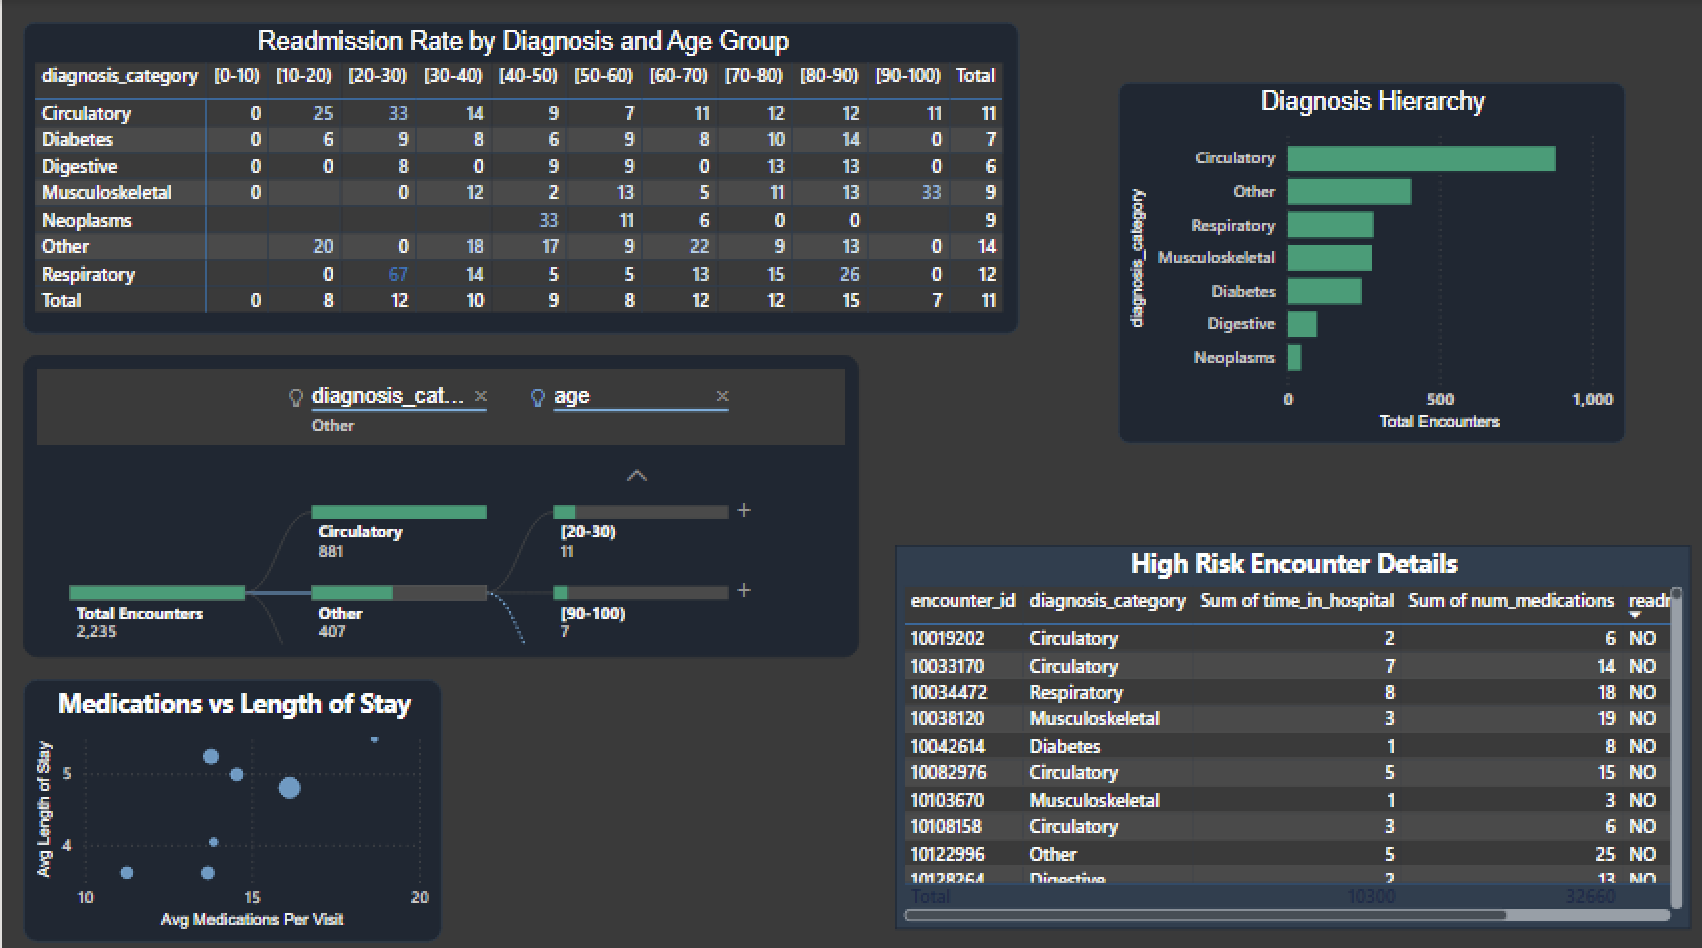

What the dashboard file says about the page in this screenshot:
{"tool":"powerbi","page":{"name":"Clinical Deep Dive","canvas":[1280,720],"ordinal":1},"visuals":[{"type":"pivotTable","title":"Readmission Rate by Diagnosis and Age Group","fields":{"Rows":["diabetic_data.diagnosis_category"],"Columns":["diabetic_data.age"],"Values":["_Measures.Readmission Rate %"]},"box":[17.1,17.1,742.1,232.9],"z":0},{"type":"clusteredBarChart","title":"Diagnosis Hierarchy","fields":{"Category":["diabetic_data.diagnosis_category"],"Y":["_Measures.Total Encounters"]},"box":[831.6,60.5,377.6,269.7],"z":1000},{"type":"scatterChart","title":"Medications vs Length of Stay","fields":{"X":["_Measures.Avg Medications Per Visit"],"Y":["_Measures.Avg Length of Stay"],"Category":["diabetic_data.diagnosis_category"],"Size":["_Measures.Total Encounters"]},"box":[17.1,506.6,311.8,196.1],"z":2000},{"type":"decompositionTreeVisual","fields":{"Analyze":["_Measures.Total Encounters"],"ExplainBy":["diabetic_data.diagnosis_category","diabetic_data.age","dim_admission_type.description"]},"box":[17.1,264.5,622.4,225],"z":3000},{"type":"tableEx","title":"High Risk Encounter Details","fields":{"Values":["diabetic_data.encounter_id","diabetic_data.diagnosis_category","Sum(diabetic_data.time_in_hospital)","Sum(diabetic_data.num_medications)","diabetic_data.readmitted","diabetic_data.race"]},"box":[665.8,406.6,593.4,285.5],"z":4000}]}

Visuals, with their boxes in screenshot pixels (x1, y1, x2, y2), scaled from the page's 1280x720 canvas onto the 1702x948 screenshot:
"Readmission Rate by Diagnosis and Age Group" pivotTable: 23/23/1009/329
"Diagnosis Hierarchy" clusteredBarChart: 1106/80/1608/435
"Medications vs Length of Stay" scatterChart: 23/667/437/925
decompositionTreeVisual - _Measures.Total Encounters x diabetic_data.diagnosis_category: 23/348/850/645
"High Risk Encounter Details" tableEx: 885/535/1674/911
